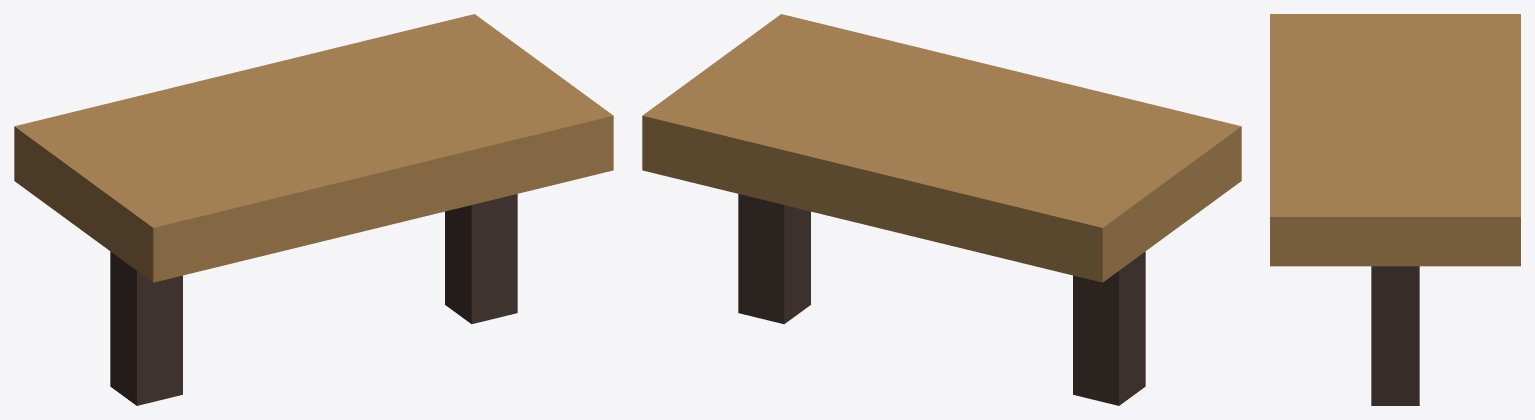
File: map_table.glb
3 views of the same model, side by side, from view 1: azimuth 30°, elevation 25°; view 2: azimuth 150°, elevation 25°; view 3: azimuth 270°, elevation 25° (orthographic). The views are drawn at different scales.
Parts seen in each view (by area): view 1: map_top, map_leg_-1, map_leg_1; view 2: map_top, map_leg_-1, map_leg_1; view 3: map_top, map_leg_1.
Boxes of the visible parts, x1,y1,x2,y2 form: map_top: [14, 14, 613, 282]; map_leg_-1: [110, 251, 182, 405]; map_leg_1: [445, 194, 517, 324]; map_top: [642, 14, 1241, 282]; map_leg_-1: [1073, 251, 1145, 405]; map_leg_1: [738, 194, 810, 324]; map_top: [1270, 14, 1520, 266]; map_leg_1: [1371, 266, 1419, 405].
Size of what is drawn, in the model's own units: 2.2 by 1.04 by 1.15.
